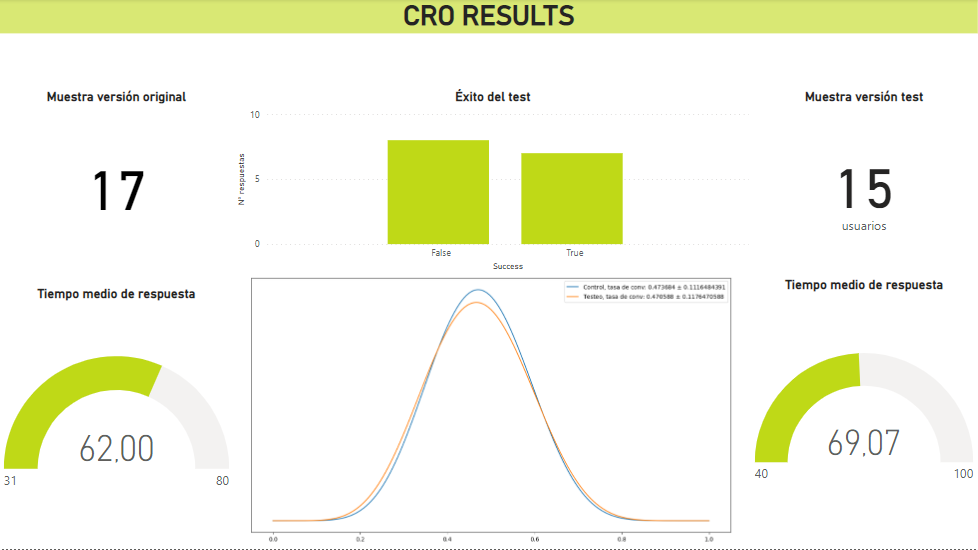

Layout of this report page (visuals, bound fields, positions):
{"tool":"powerbi","page":{"name":"CRO Metrics","canvas":[1280,720],"ordinal":0},"visuals":[{"type":"textbox","title":"CRO RESULTS","box":[0,0,1280,45.4],"z":0},{"type":"clusteredColumnChart","title":"Éxito del test","fields":{"Category":["Sheet1.Success"],"Y":["Sum(Sheet1.Version)"]},"box":[304.8,117.7,680.4,242.4],"z":1},{"type":"card","title":"Muestra versión original","fields":{"Values":["CountNonNull(Sheet1.Version)"]},"box":[0,117.7,304.8,246.6],"z":2},{"type":"card","title":"Muestra versión test","fields":{"Values":["CountNonNull(Sheet1.Version)"]},"box":[983.7,117.7,296.3,242.4],"z":3},{"type":"gauge","title":"Tiempo medio de respuesta","fields":{"Y":["Avg(Sheet1.time)"],"MinValue":["Min(Sheet1.time)1"],"MaxValue":["Max(Sheet1.time)2"]},"box":[0,375.6,304.8,343],"z":4},{"type":"gauge","title":"Tiempo medio de respuesta","fields":{"Y":["Avg(Sheet1.time)"],"MinValue":["Min(Sheet1.time)1"],"MaxValue":["Max(Sheet1.time)2"]},"box":[983.7,364.3,296.3,354.4],"z":5},{"type":"image","box":[273.6,360,739.9,358.6],"z":6}]}

Visuals, with their boxes in screenshot pixels (x1, y1, x2, y2), scaled from the page's 1280x720 canvas onto the 978x550 screenshot:
"CRO RESULTS" textbox: {"left": 0, "top": 0, "right": 977, "bottom": 35}
"Éxito del test" clusteredColumnChart: {"left": 233, "top": 90, "right": 753, "bottom": 275}
"Muestra versión original" card: {"left": 0, "top": 90, "right": 233, "bottom": 278}
"Muestra versión test" card: {"left": 752, "top": 90, "right": 977, "bottom": 275}
"Tiempo medio de respuesta" gauge: {"left": 0, "top": 287, "right": 233, "bottom": 549}
"Tiempo medio de respuesta" gauge: {"left": 752, "top": 278, "right": 977, "bottom": 549}
image: {"left": 209, "top": 275, "right": 774, "bottom": 549}
